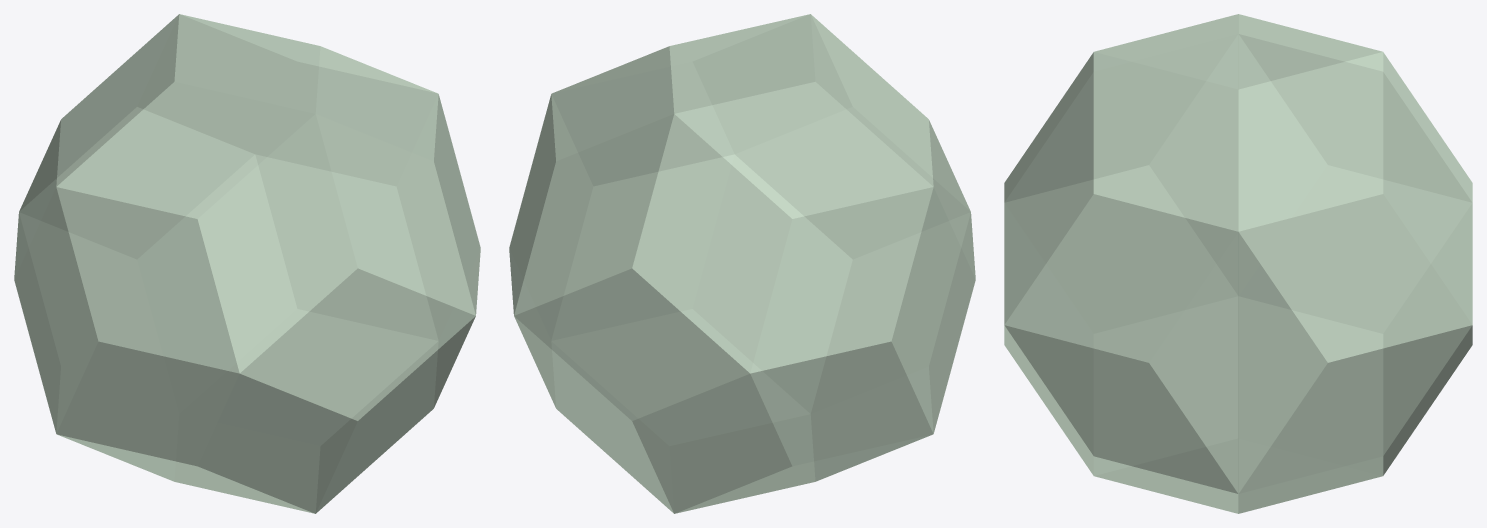
The model's file is RhombicTriacontahedron.obj.
3 views of the same model, side by side, from view 1: azimuth 30°, elevation 25°; view 2: azimuth 150°, elevation 25°; view 3: azimuth 270°, elevation 25° (orthographic). The views are drawn at different scales.
Bounding box in the file's own units: 2.93 × 2.93 × 2.93.
